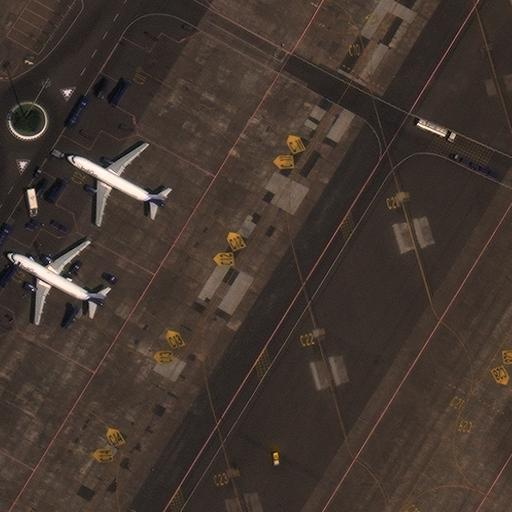Medium Civil Transport: (6, 241, 103, 324), (67, 143, 163, 225)
